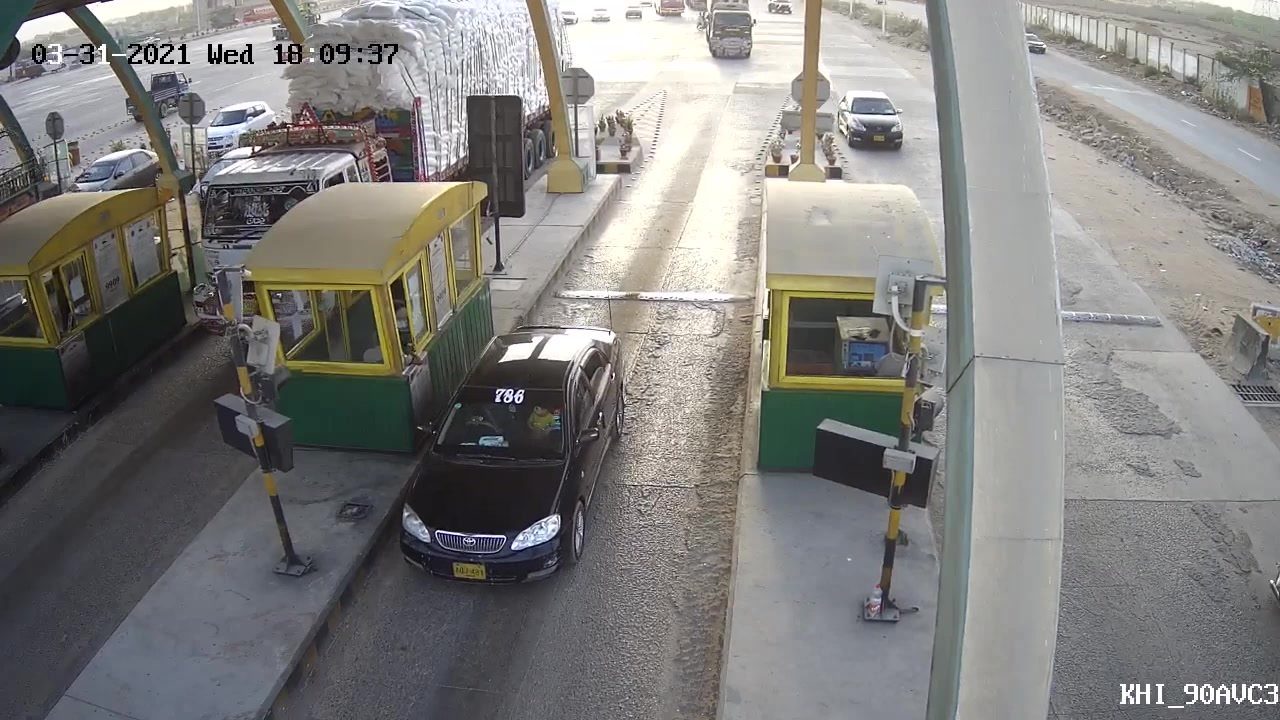F1: (391, 318, 631, 592)
